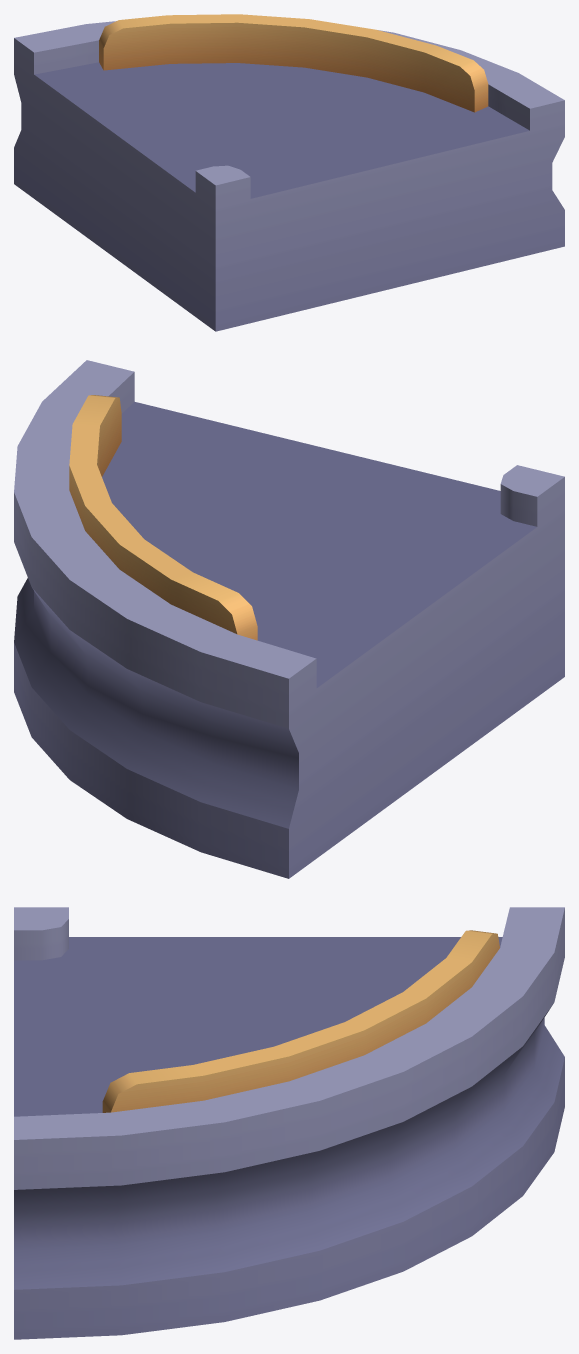
File: conveyor-corner.glb
3 views of the same model, one above another, from view 1: azimuth 30°, elevation 25°; view 2: azimuth 150°, elevation 25°; view 3: azimuth 270°, elevation 25° (orthographic). The views are drawn at different scales.
Visible parts, largest first — view 1: conveyor-corner; view 2: conveyor-corner; view 3: conveyor-corner.
Part boxes in pixels (box(x1,y1,x2,y2)): conveyor-corner: box(14, 14, 564, 331); conveyor-corner: box(14, 360, 564, 878); conveyor-corner: box(14, 907, 564, 1339).
Bounding box in the file's own units: 1 × 0.45 × 1.
1 material, 1 textured.
